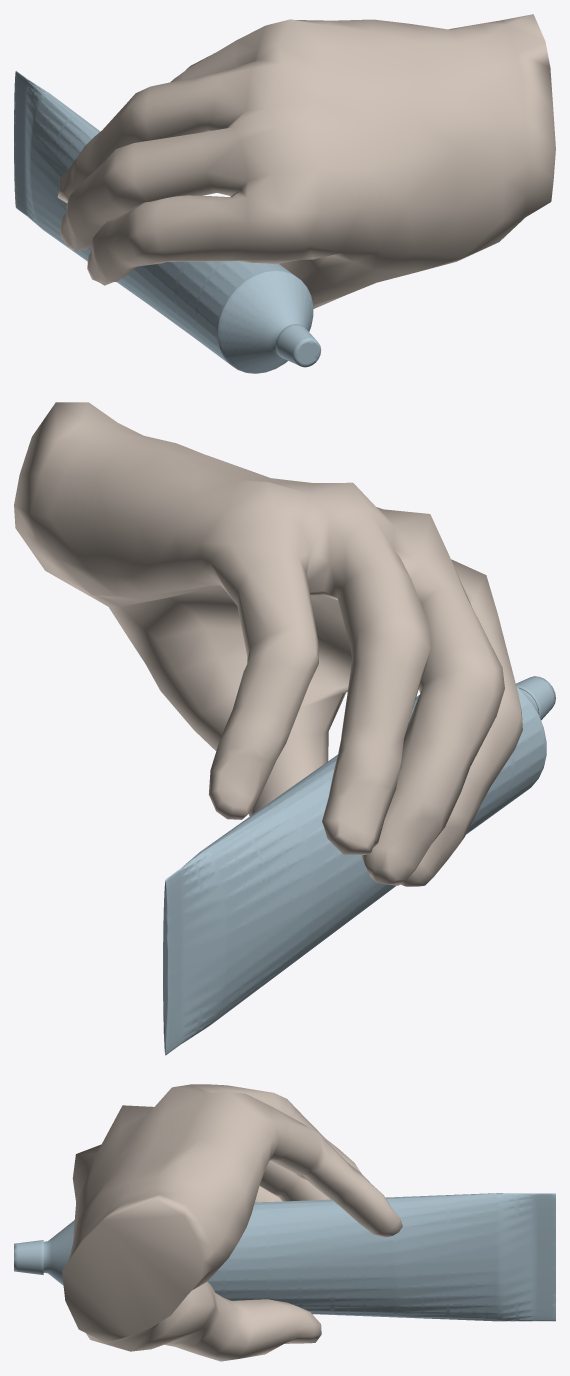
File: grasp_2.glb
The picture shows the model from 3 angles, top to bottom: view 1: azimuth 30°, elevation 25°; view 2: azimuth 150°, elevation 25°; view 3: azimuth 270°, elevation 25°; orthographic projection. The views are drawn at different scales.
Bounding box in the file's own units: 0.157 × 0.1148 × 0.202.
